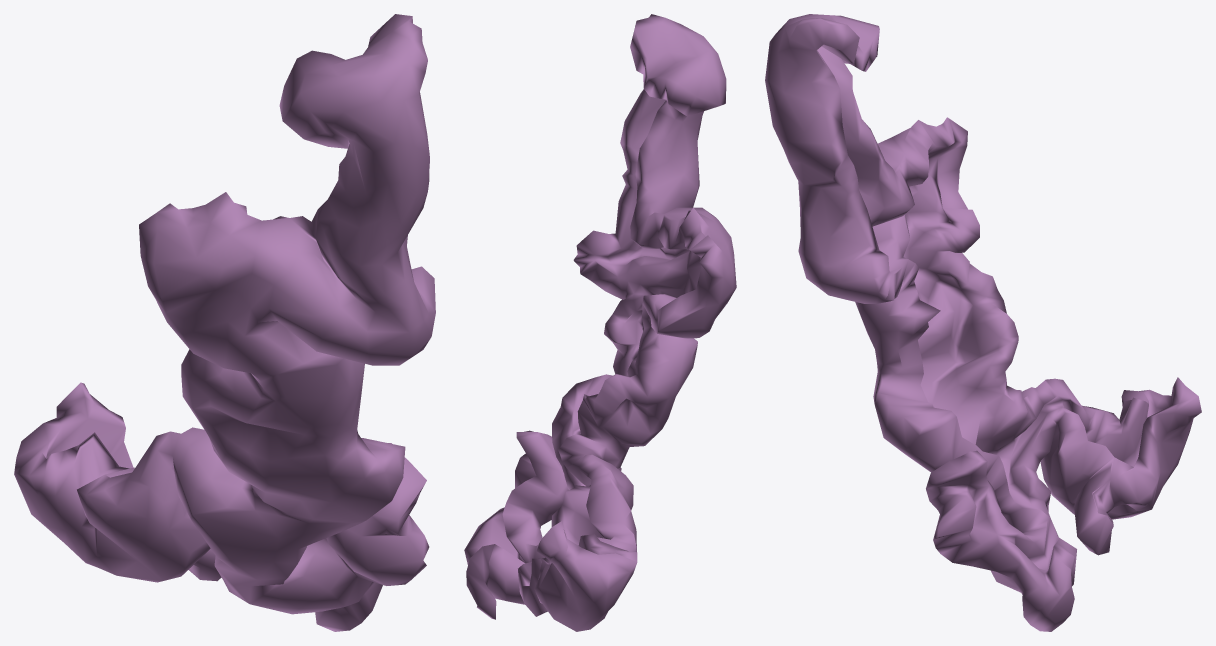
3 views of the same model, side by side, from view 1: azimuth 30°, elevation 25°; view 2: azimuth 150°, elevation 25°; view 3: azimuth 270°, elevation 25° (orthographic). The views are drawn at different scales.
Parts seen in each view (by area): view 1: 右侧额中回; view 2: 右侧额中回; view 3: 右侧额中回.
Part boxes in pixels (x1,y1,x2,y2): 右侧额中回: [14, 14, 435, 631]; 右侧额中回: [464, 14, 736, 631]; 右侧额中回: [765, 14, 1201, 631].
Size of the model in its own units: 0.0579 by 0.134 by 0.0907.
